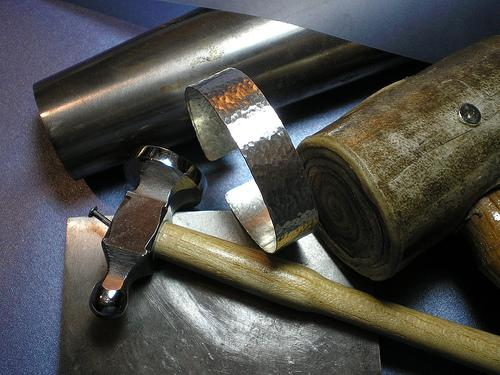hammer: (86, 140, 499, 374)
